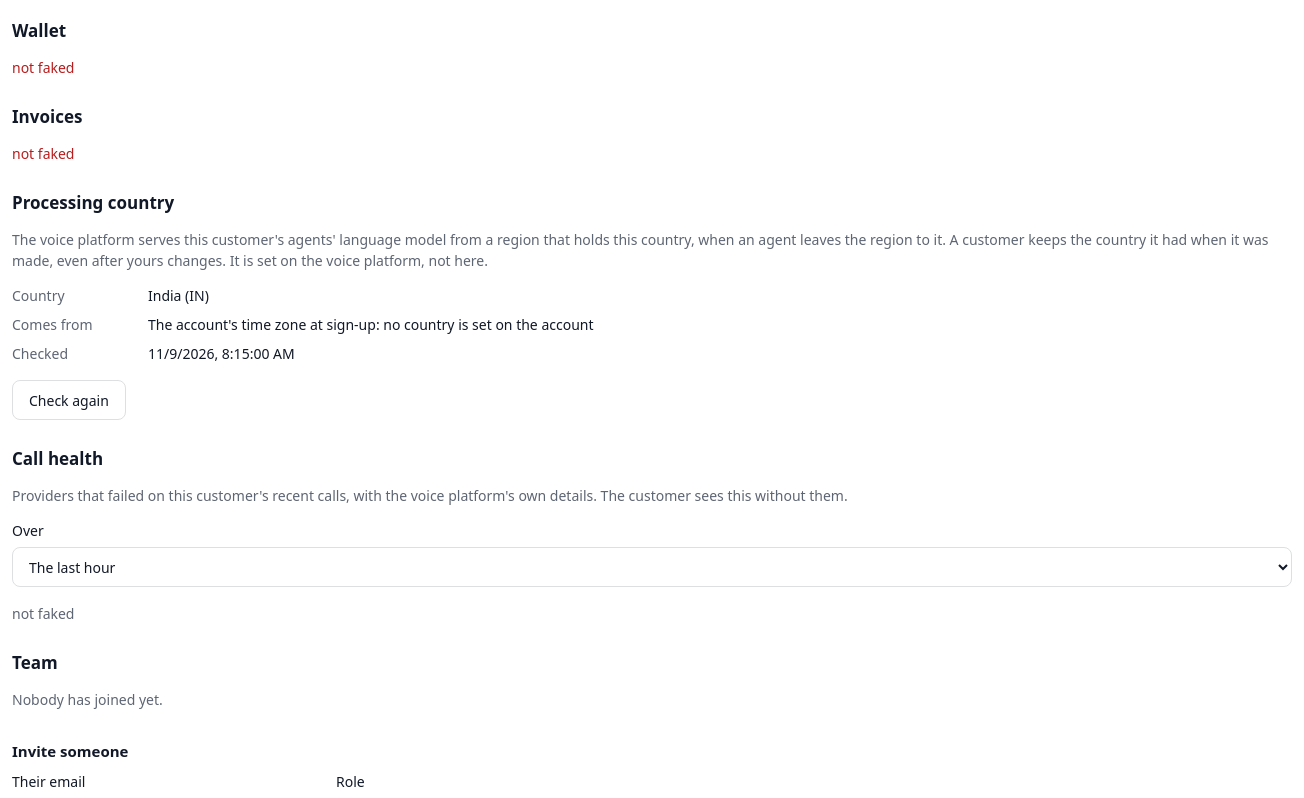
the processing country on a customer's page › shows the customer's country, says it keeps the one it had when made, and checks again by its id
(page scrolled)
Check: the text "India (IN)" is shown, box [148, 286, 209, 305]
Check: the element "Processing country" shows "A customer keeps the country it had when it was made, even after yours changes.", box [12, 230, 1268, 270]
Step 1. Click the button "Check again" → (69, 400), box [12, 380, 126, 420]
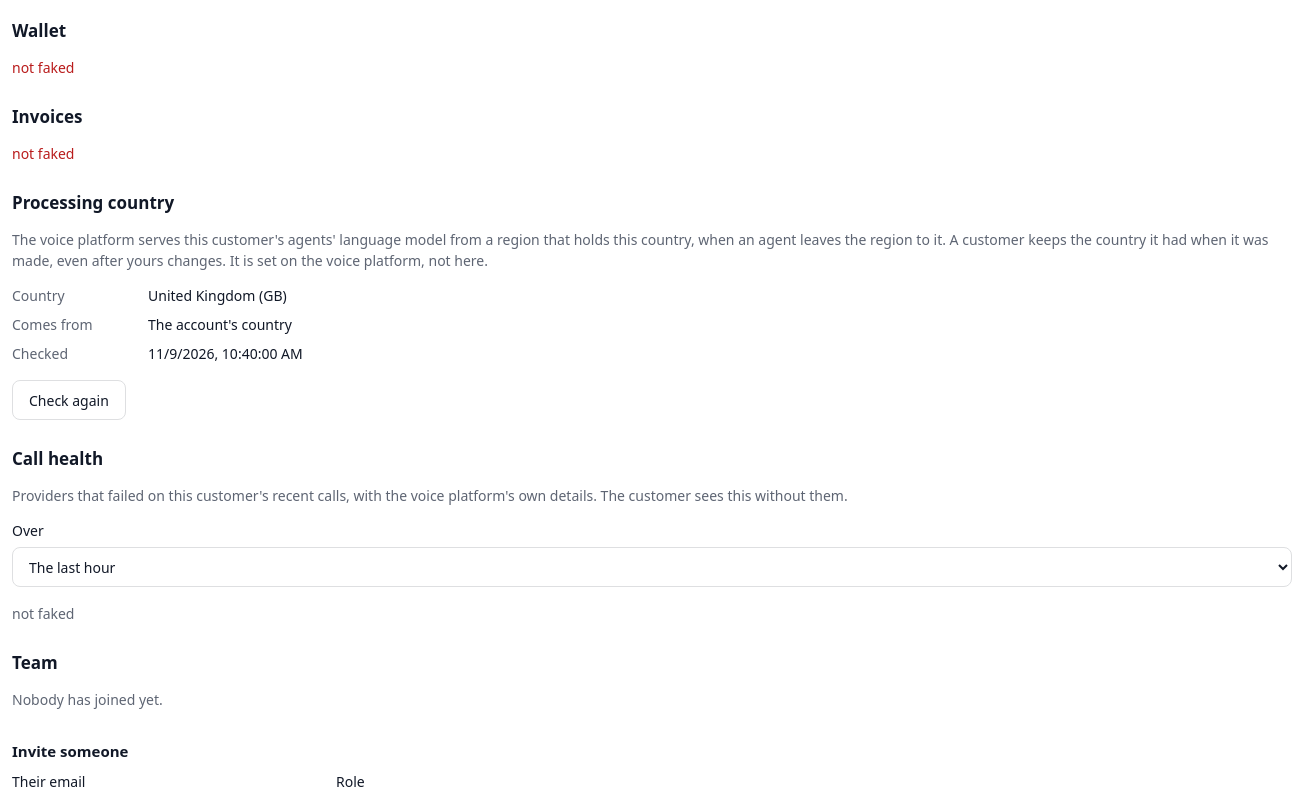
Check: the text "United Kingdom (GB)" is shown, box [148, 286, 287, 305]
Check: the text with test id "processing-country-source" reads "The account's country", box [148, 315, 292, 334]
